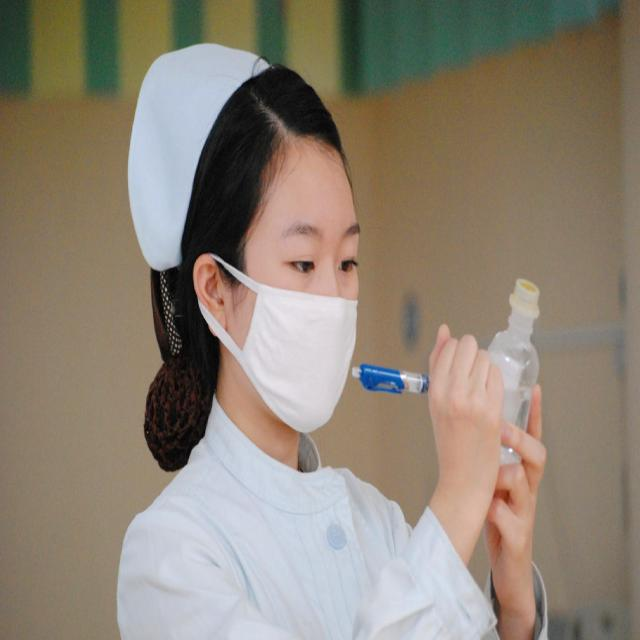mask: (232, 153, 360, 430)
